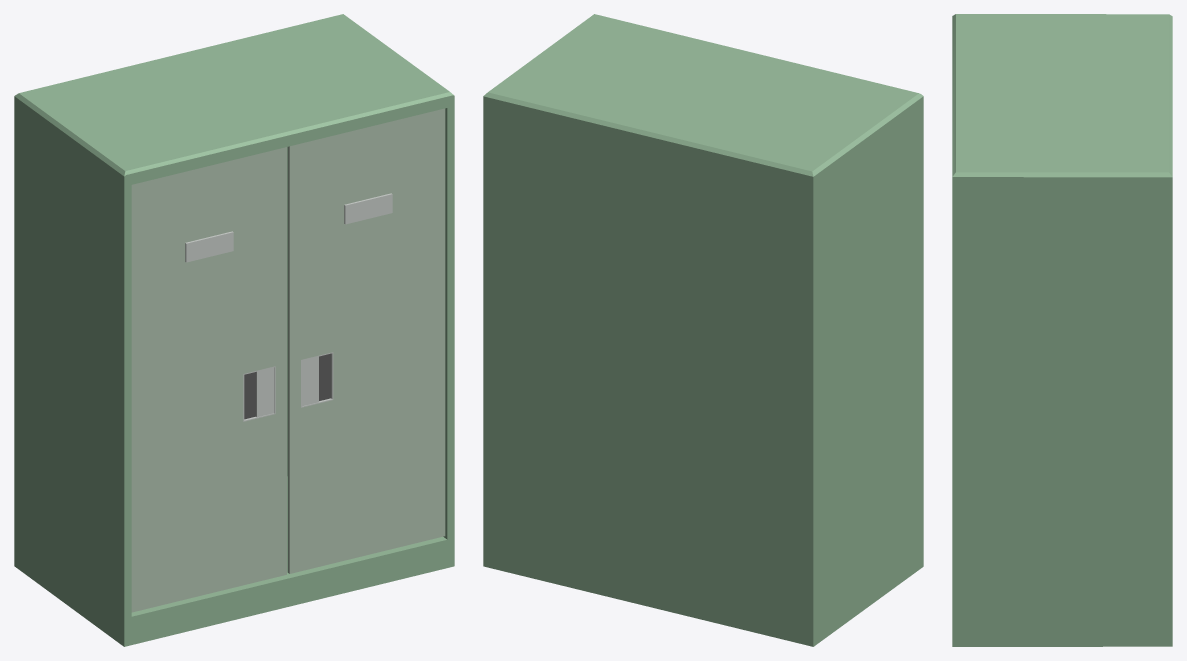
File: cabinet_02_0324.fbx
The picture shows the model from 3 angles, left to right: view 1: azimuth 30°, elevation 25°; view 2: azimuth 150°, elevation 25°; view 3: azimuth 270°, elevation 25°; orthographic projection.
Parts seen in each view (by area): view 1: body, door_2, door_1; view 2: body; view 3: body.
Boxes of the visible parts, <box> form: body: <box>14,14,454,646</box>; door_2: <box>287,108,445,573</box>; door_1: <box>131,147,286,612</box>; body: <box>483,14,923,646</box>; body: <box>952,14,1172,646</box>.
Size of the model in its own units: 243 by 333 by 140.
